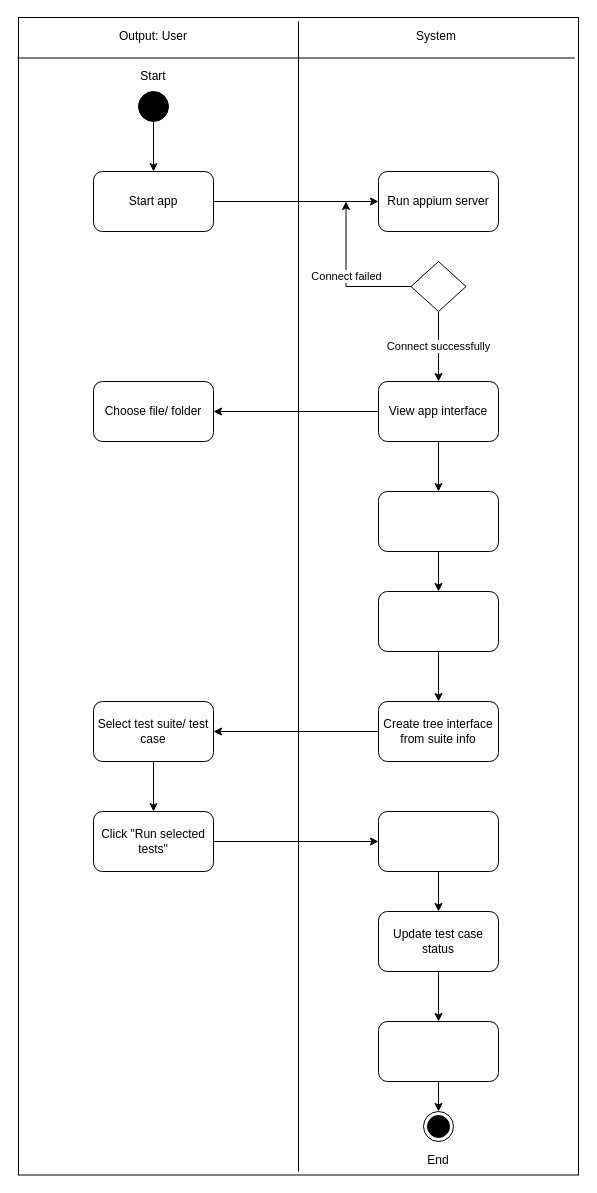
Image size: 597x1193. Some labels were removed from this diagram. The box of each missing label's shape, as (x1, y1, x2, y2) in pixels:
Collect tests name Run robot command: (378, 810, 498, 872)
Get suite infomation from path: (378, 590, 498, 652)
Take file/ folder path and assign to RobotHandler & Test Service: (378, 490, 498, 552)
Update test summary: (378, 1020, 498, 1082)
